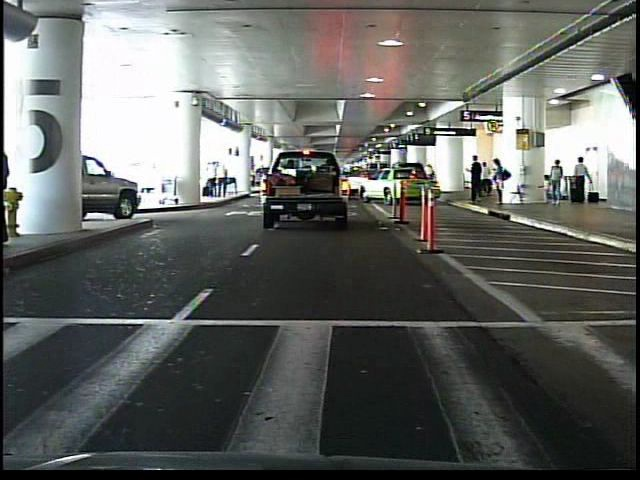person: (468, 154, 487, 206), (493, 157, 510, 207), (480, 157, 493, 200)
